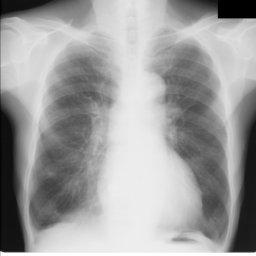left lobe: (152, 32, 230, 241)
right lobe: (30, 43, 115, 228)
